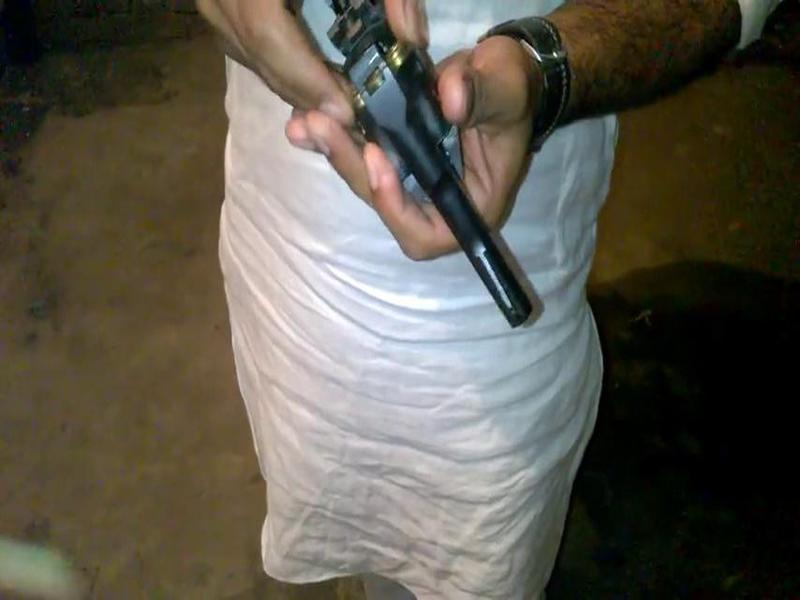Revolver: (337, 17, 559, 344)
